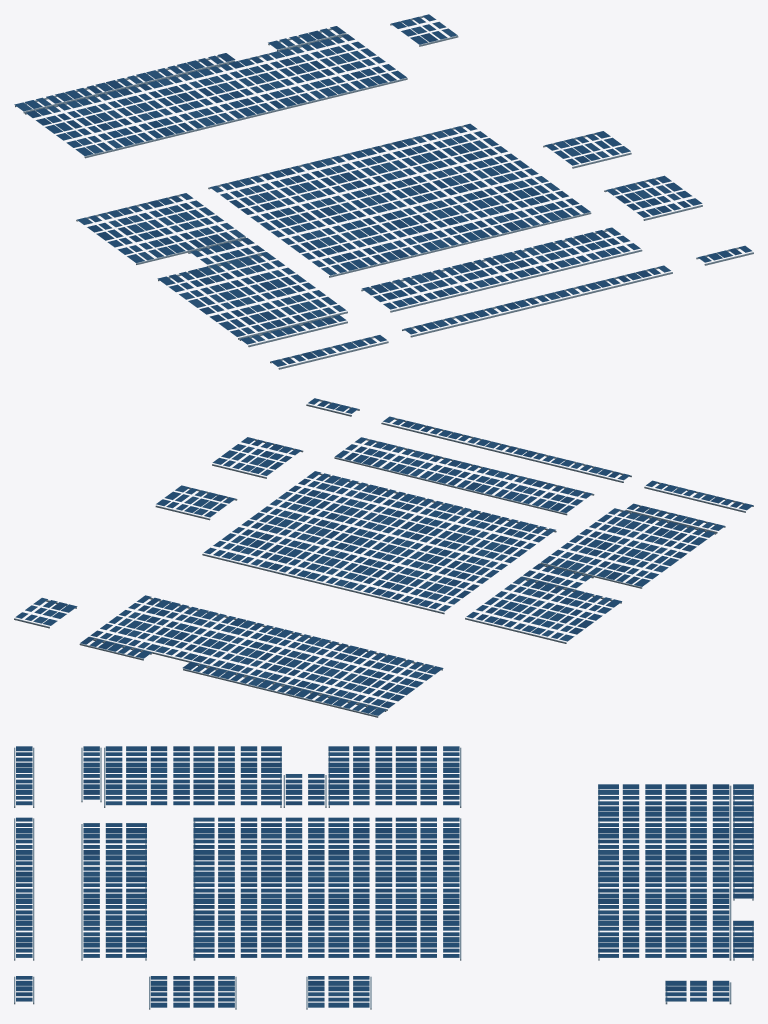
The model's file is SM_MPRH_SolarBank_01_1_LOD1.fbx.
3 views of the same model, one above another, from view 1: azimuth 30°, elevation 25°; view 2: azimuth 150°, elevation 25°; view 3: azimuth 270°, elevation 25° (orthographic). The views are drawn at different scales.
Visible parts, largest first — view 1: SM_MPRH_SolarBank_01_1_LOD1; view 2: SM_MPRH_SolarBank_01_1_LOD1; view 3: SM_MPRH_SolarBank_01_1_LOD1.
Part boxes in pixels (x1,y1,x2,y2): SM_MPRH_SolarBank_01_1_LOD1: [14, 14, 753, 369]; SM_MPRH_SolarBank_01_1_LOD1: [14, 398, 753, 717]; SM_MPRH_SolarBank_01_1_LOD1: [14, 746, 753, 1009].
Bounding box in the file's own units: 5368 × 6420 × 24.6.
